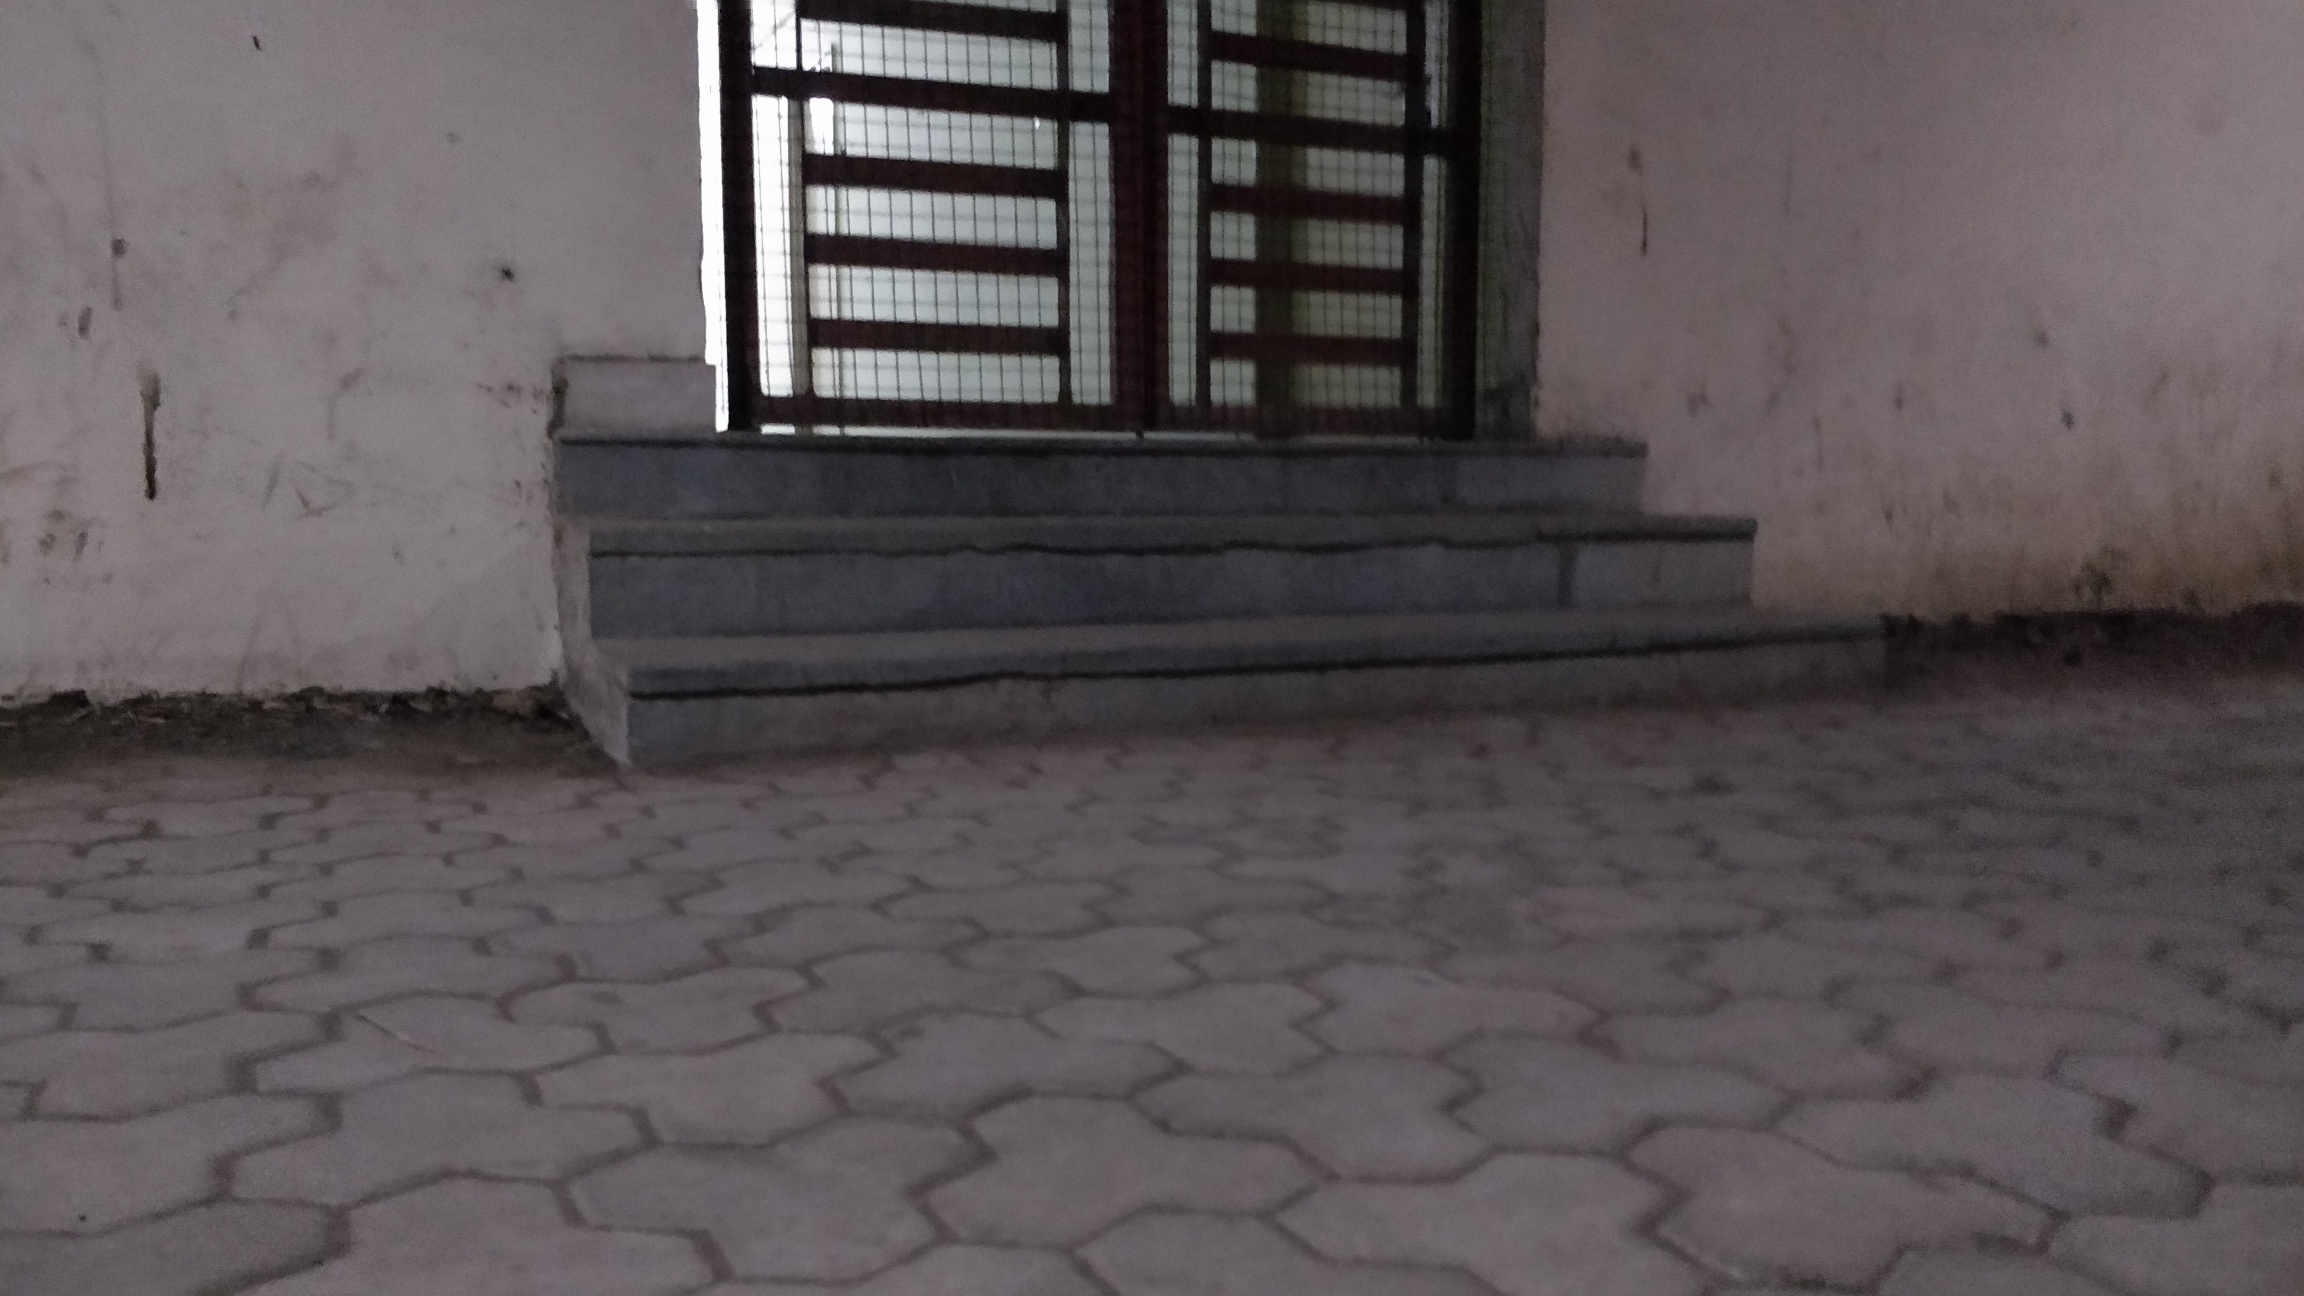stairs_up: (535, 437, 1845, 707)
